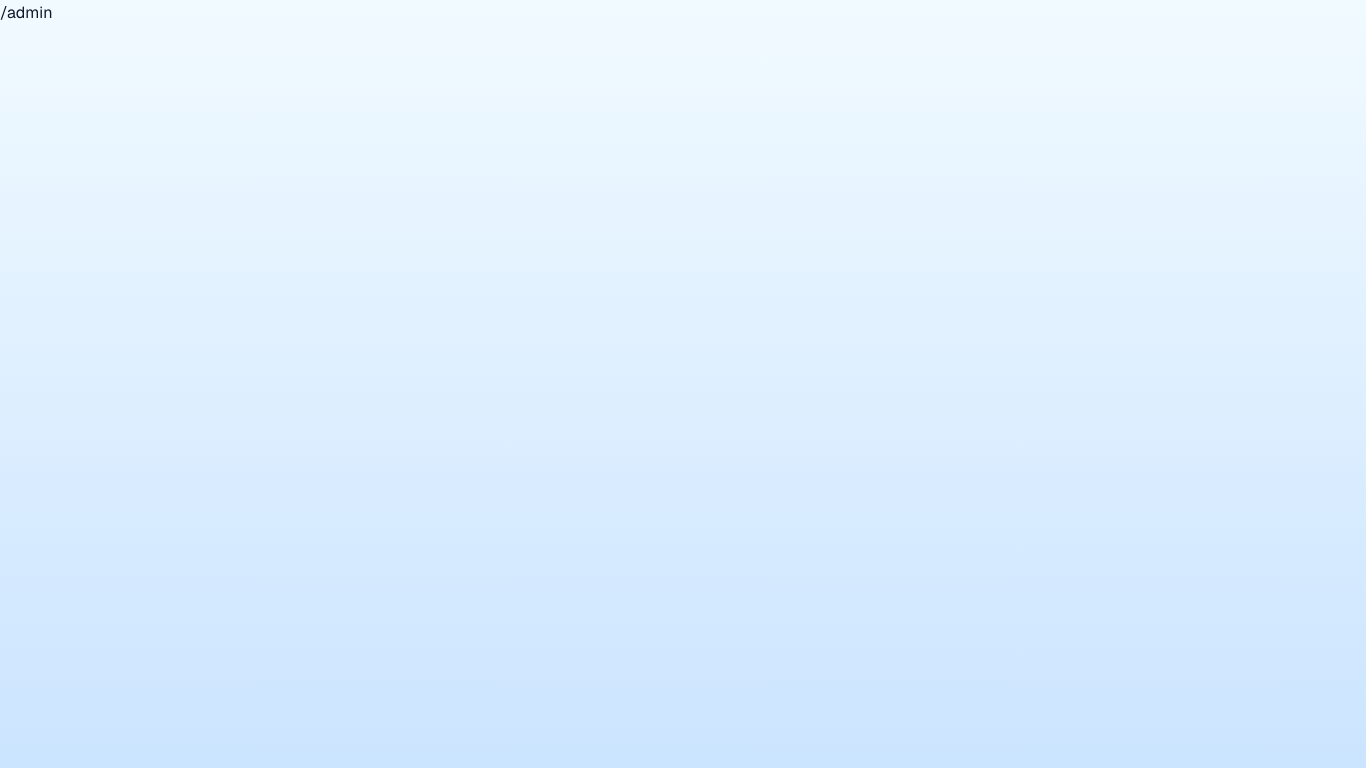
CommandPalette › says so when nothing matches
Press k
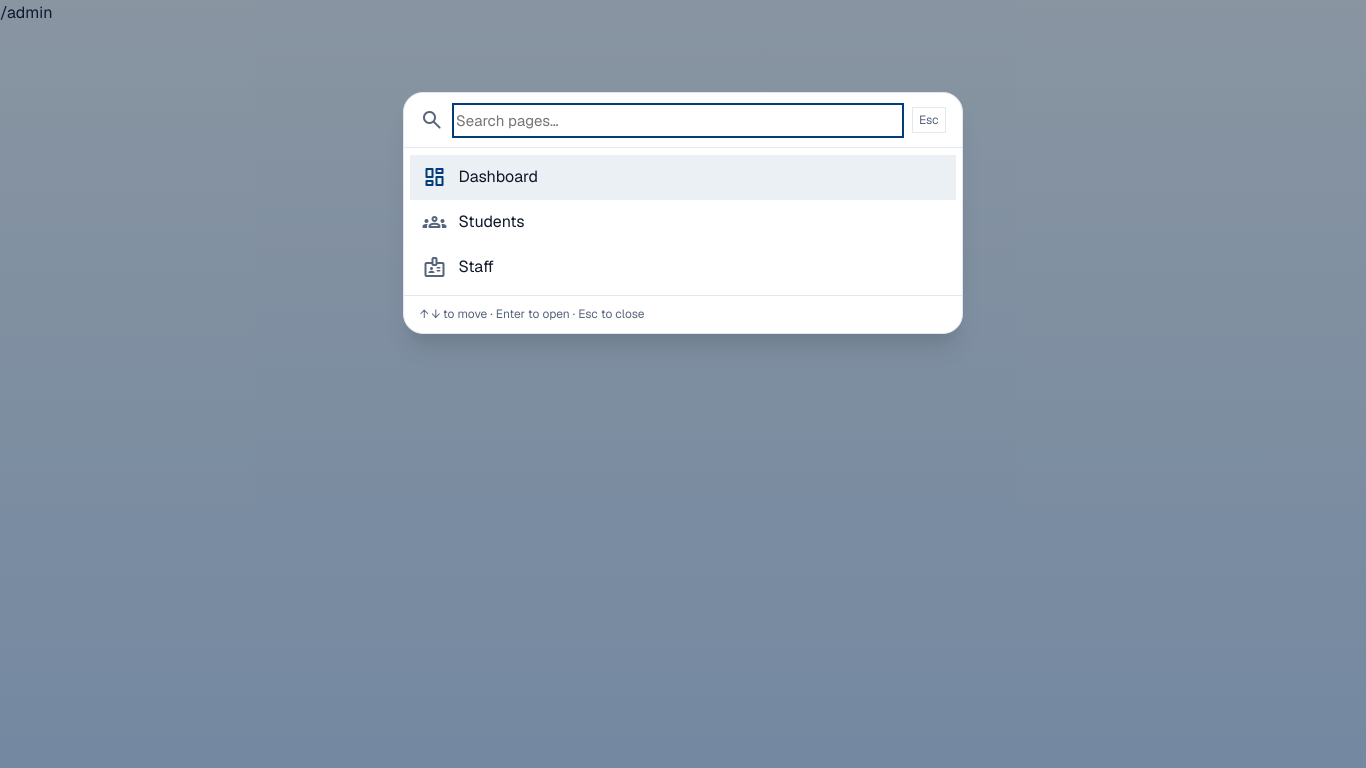
Type "zzz" into the dropdown.
click(678, 120); type("zzz")  # box [456, 107, 900, 134]
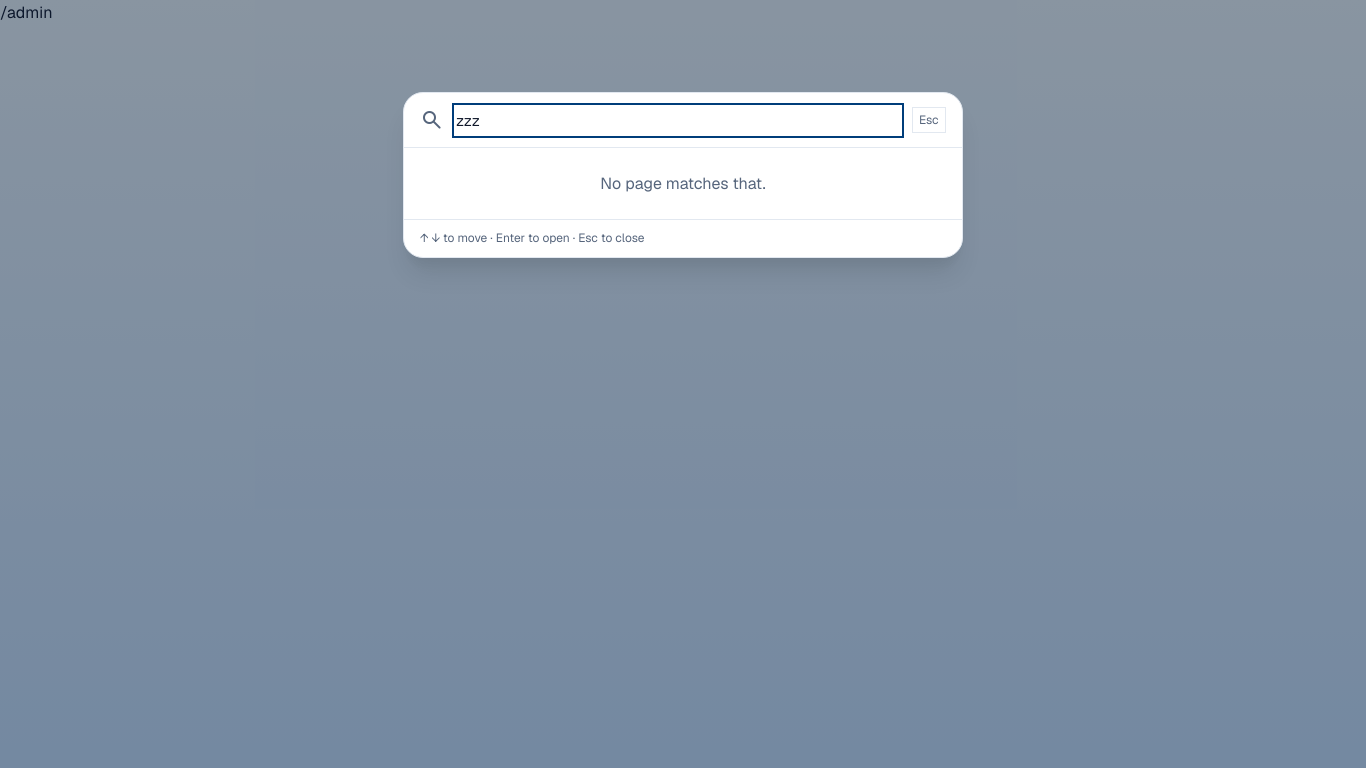
Expected: the list item "No page matches that." is shown, [600, 173, 766, 194]
